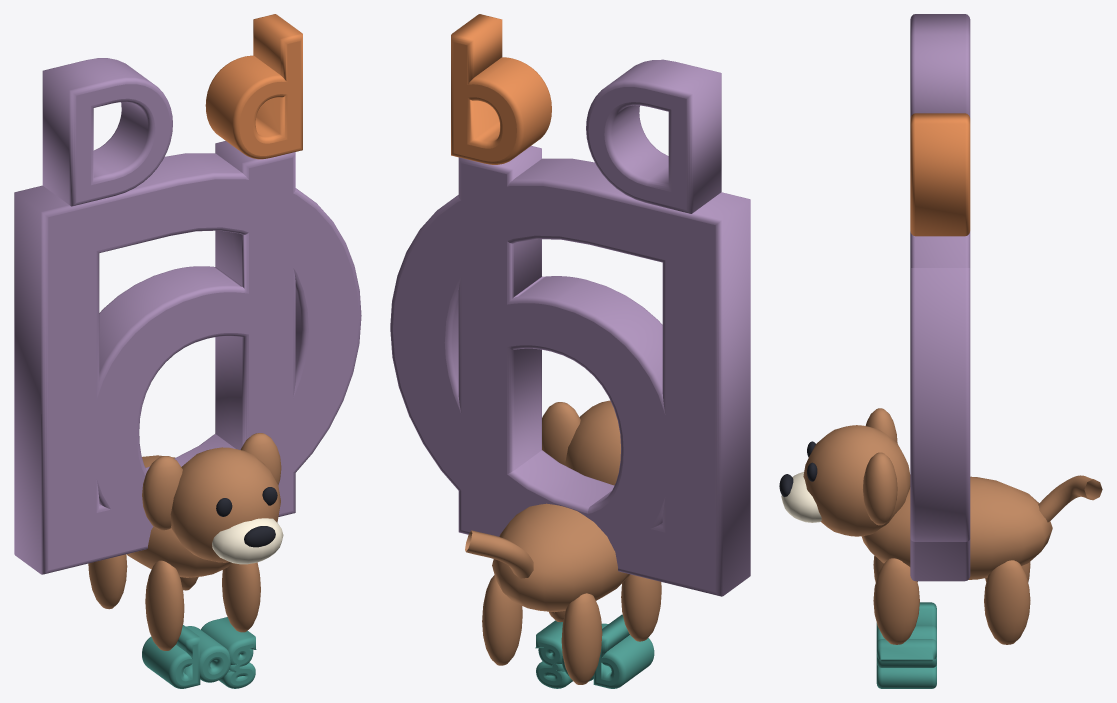
File: letter-d.glb
3 renders of one model, left to right at view 1: azimuth 30°, elevation 25°; view 2: azimuth 150°, elevation 25°; view 3: azimuth 270°, elevation 25°, orthographic. The views are drawn at different scales.
Parts seen in each view (by area): view 1: letter solid, letter solid.001, uppercase solid, lowercase solid, animal head, example word, little paw, round animal body, little paw.002, animal ear, muzzle, little paw.001 (+2 smaller); view 2: letter solid, letter solid.001, uppercase solid, lowercase solid, round animal body, example word, animal head, little paw.001, little paw.003, little paw, animal ear.001, tail; view 3: letter solid, round animal body, lowercase solid, animal head, uppercase solid, letter solid.001, example word, little paw.002, little paw.003, animal ear.001, tail, muzzle (+1 smaller).
Boxes of the visible parts, x1,y1,x2,y2 form: letter solid: (14, 153, 361, 574); letter solid.001: (92, 141, 295, 533); uppercase solid: (42, 58, 172, 206); lowercase solid: (205, 14, 302, 159); animal head: (170, 447, 280, 562); example word: (142, 617, 256, 688); little paw: (145, 560, 184, 650); round animal body: (126, 455, 231, 577); little paw.002: (222, 562, 260, 632); animal ear: (142, 456, 182, 530); muzzle: (212, 518, 283, 564); little paw.001: (88, 554, 127, 609); letter solid: (390, 158, 750, 596); letter solid.001: (458, 146, 665, 536); uppercase solid: (586, 59, 721, 213); lowercase solid: (451, 14, 551, 164); round animal body: (492, 503, 630, 612); example word: (535, 614, 654, 688); animal head: (565, 400, 620, 485); little paw.001: (561, 593, 602, 684); little paw.003: (482, 575, 522, 665); little paw: (621, 574, 661, 641); animal ear.001: (542, 402, 580, 465); tail: (465, 530, 533, 578); letter solid: (910, 268, 970, 541); round animal body: (861, 476, 1052, 579); lowercase solid: (910, 113, 970, 236); animal head: (803, 425, 910, 536); uppercase solid: (910, 14, 970, 117); letter solid.001: (910, 231, 970, 581); example word: (876, 602, 936, 688); little paw.002: (873, 558, 919, 644); little paw.003: (984, 560, 1030, 644); animal ear.001: (863, 452, 897, 525); tail: (1038, 475, 1102, 522); muzzle: (781, 472, 821, 522).
Bounding box in the file's own units: 1.07 × 1.98 × 0.9667.
